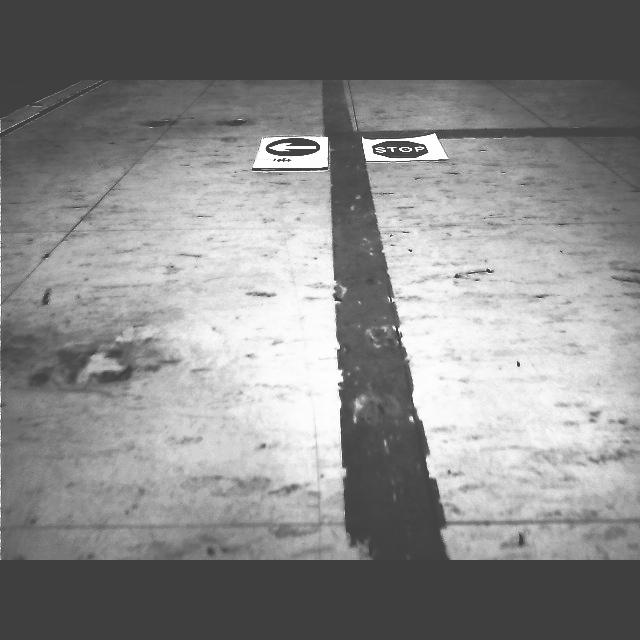STOP: (373, 140, 427, 158)
TURN LEFT: (266, 138, 320, 156)
